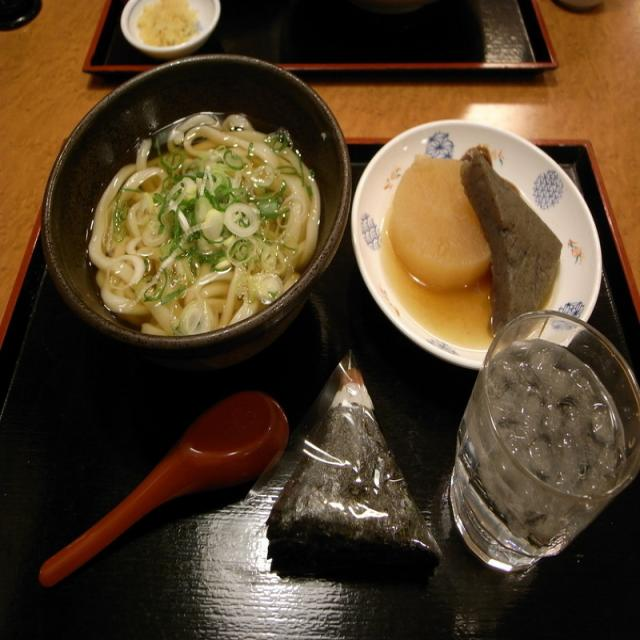面条主食: (58, 71, 330, 342)
